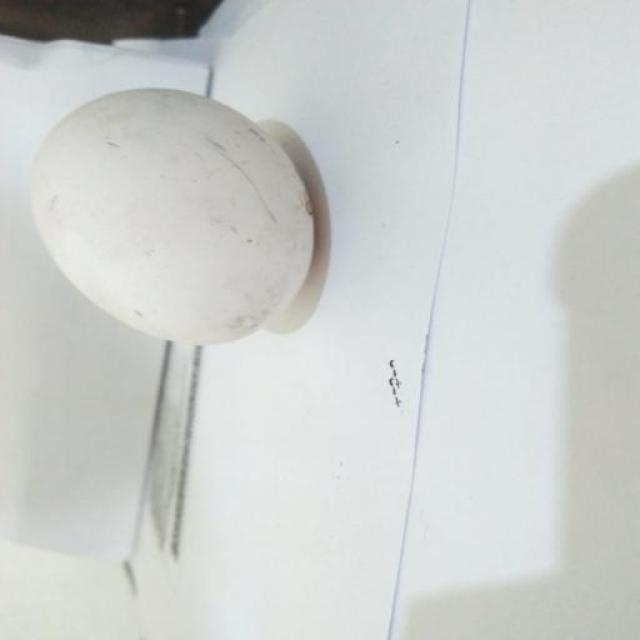telur: (27, 73, 323, 356)
